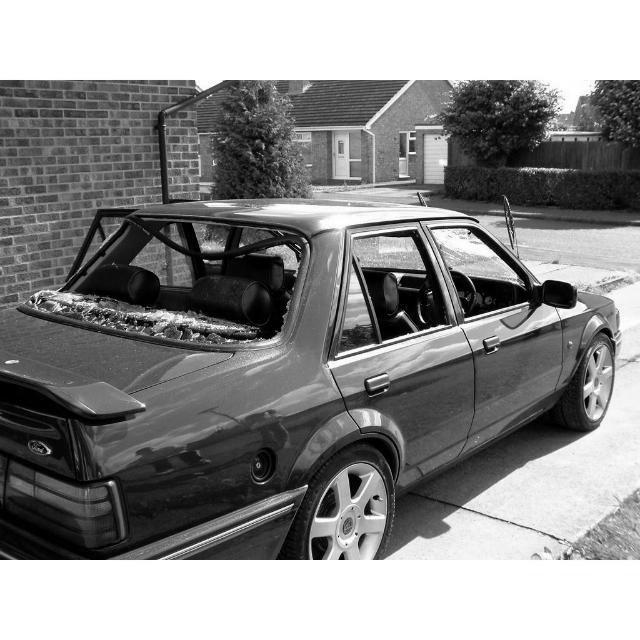Rear-windscreen-Damage: (46, 195, 301, 360)
